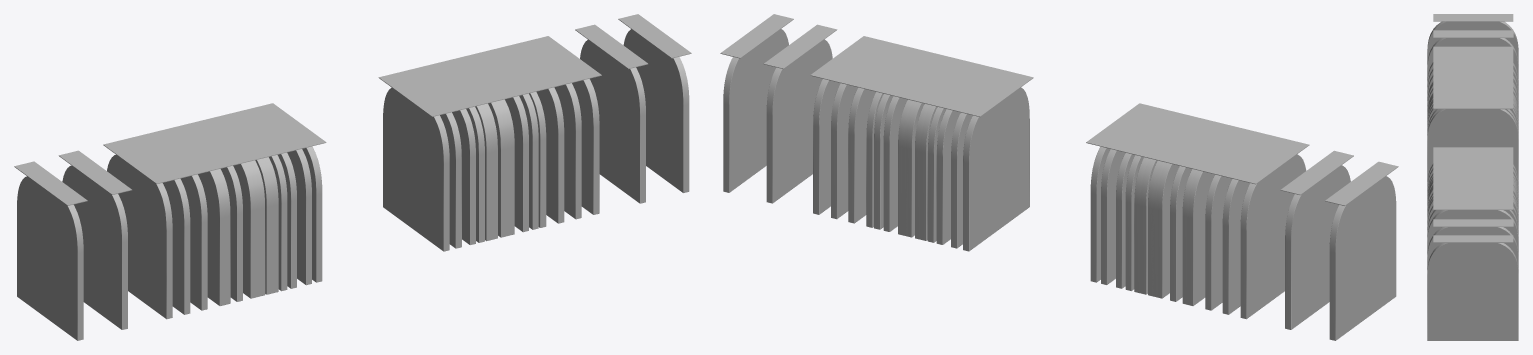
Rendered from Japandi.glb.
3 views of the same model, side by side, from view 1: azimuth 30°, elevation 25°; view 2: azimuth 150°, elevation 25°; view 3: azimuth 270°, elevation 25° (orthographic). The views are drawn at different scales.
Visible parts, largest first — view 1: Rectangle_Japandi_Wood_Slab_LEG, Verbaan_Japandi_Wood_Slab_LEG, Oval_Japandi_Wood_Slab_LEG; view 2: Rectangle_Japandi_Wood_Slab_LEG, Verbaan_Japandi_Wood_Slab_LEG, Oval_Japandi_Wood_Slab_LEG; view 3: Rectangle_Japandi_Wood_Slab_LEG, Verbaan_Japandi_Wood_Slab_LEG, Oval_Japandi_Wood_Slab_LEG.
Part boxes in pixels (x1,y1,x2,y2): Rectangle_Japandi_Wood_Slab_LEG: (14, 14, 691, 340); Verbaan_Japandi_Wood_Slab_LEG: (14, 19, 690, 340); Oval_Japandi_Wood_Slab_LEG: (214, 67, 538, 304); Rectangle_Japandi_Wood_Slab_LEG: (720, 14, 1397, 340); Verbaan_Japandi_Wood_Slab_LEG: (723, 22, 1398, 340); Oval_Japandi_Wood_Slab_LEG: (874, 67, 1196, 304); Rectangle_Japandi_Wood_Slab_LEG: (1427, 14, 1518, 340); Verbaan_Japandi_Wood_Slab_LEG: (1427, 14, 1518, 340); Oval_Japandi_Wood_Slab_LEG: (1427, 83, 1518, 217).
Size of the model in its own units: 3.5 by 0.7203 by 0.5902.
5 materials, 5 textured.
